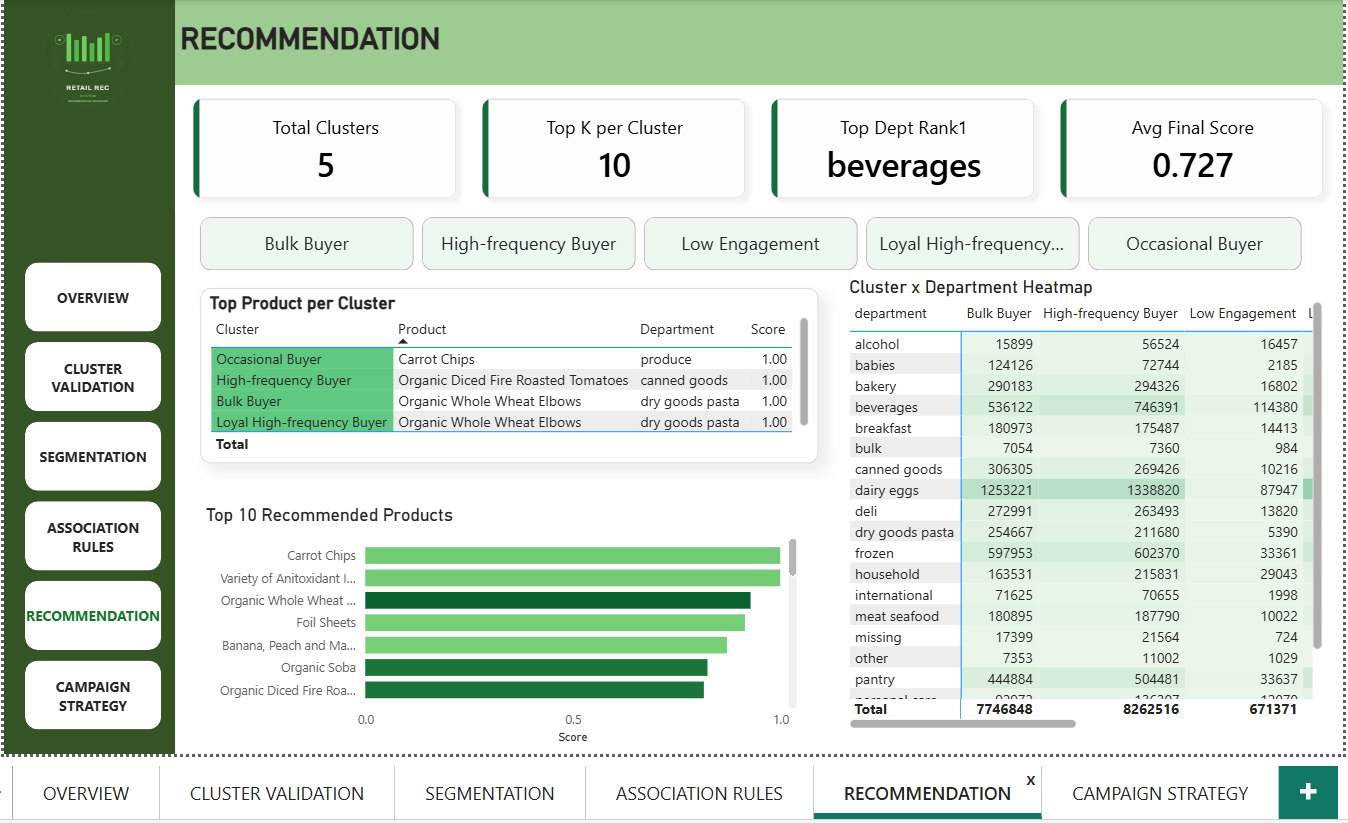

This screenshot's page, from the dashboard's own definition file:
{"tool":"powerbi","page":{"name":"RECOMMENDATION","canvas":[1280,720],"ordinal":4},"visuals":[{"type":"shape","box":[0,0,163.3,830],"z":0,"group":"g1"},{"type":"shape","box":[150.4,0,1128.7,81.6],"z":0},{"type":"textbox","box":[162.7,13.6,639.1,76.4],"z":1000},{"type":"group","id":"g1","title":"Group 1","box":[0,0,163.3,830],"z":2000},{"type":"pageNavigator","box":[20,250,130,450],"z":4000},{"type":"cardVisual","fields":{"Data":["measures (2).Total Clusters","measures (2).Top K per Cluster","measures (2).Top Dept Rank1","measures (2).Avg Final Score"]},"box":[162.9,81.4,1115.7,120],"z":5000},{"type":"clusteredBarChart","title":"Top 10 Recommended Products","fields":{"Category":["ml_top_recommendations.product_name"],"Y":["Avg(ml_top_recommendations.final_score)"]},"box":[187.1,481.4,574.3,232.9],"z":6000},{"type":"pivotTable","title":"Cluster x Department Heatmap","fields":{"Rows":["fact_cluster_dept.department"],"Columns":["dim_cluster.cluster_label"],"Values":["Sum(fact_cluster_dept.order_count)"]},"box":[801.4,262.9,461.4,437.1],"z":7000},{"type":"tableEx","title":"Top Product per Cluster","fields":{"Values":["ml_top_recommendations.cluster_label","ml_top_recommendations.product_name","ml_top_recommendations.department","ml_top_recommendations.final_score"]},"box":[187.1,275.7,590,167.1],"z":8000},{"type":"image","box":[13.8,6.2,132.5,100],"z":9000},{"type":"advancedSlicerVisual","fields":{"Values":["dim_cluster.cluster_label"]},"box":[181.4,201.4,1064.3,61.4],"z":10000}]}

Visuals, with their boxes on the page's 1280x720 design canvas (x1, y1, x2, y2). These are canvas units, not pixel positions in the 1348x823 screenshot, which may show the page scaled, cropped or inside an application window:
shape: bbox=[0, 0, 163, 830]
shape: bbox=[150, 0, 1279, 82]
textbox: bbox=[163, 14, 802, 90]
"Group 1" group: bbox=[0, 0, 163, 830]
pageNavigator: bbox=[20, 250, 150, 700]
cardVisual - measures (2).Total Clusters x measures (2).Top K per Cluster: bbox=[163, 81, 1279, 201]
"Top 10 Recommended Products" clusteredBarChart: bbox=[187, 481, 761, 714]
"Cluster x Department Heatmap" pivotTable: bbox=[801, 263, 1263, 700]
"Top Product per Cluster" tableEx: bbox=[187, 276, 777, 443]
image: bbox=[14, 6, 146, 106]
advancedSlicerVisual - dim_cluster.cluster_label: bbox=[181, 201, 1246, 263]
